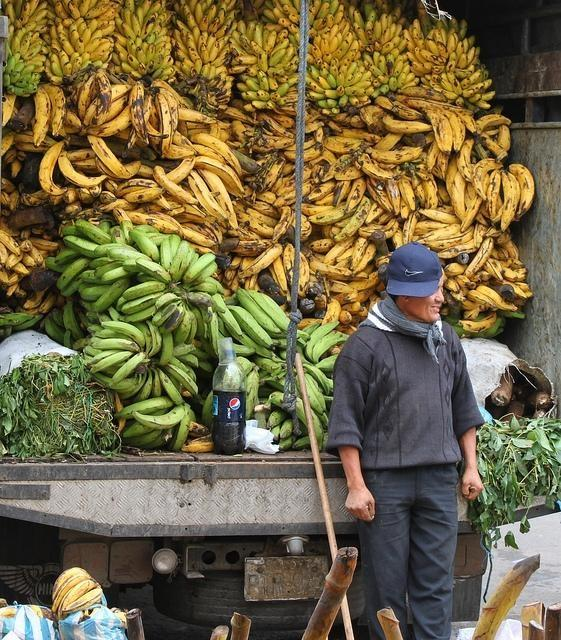truck: (1, 0, 561, 632)
